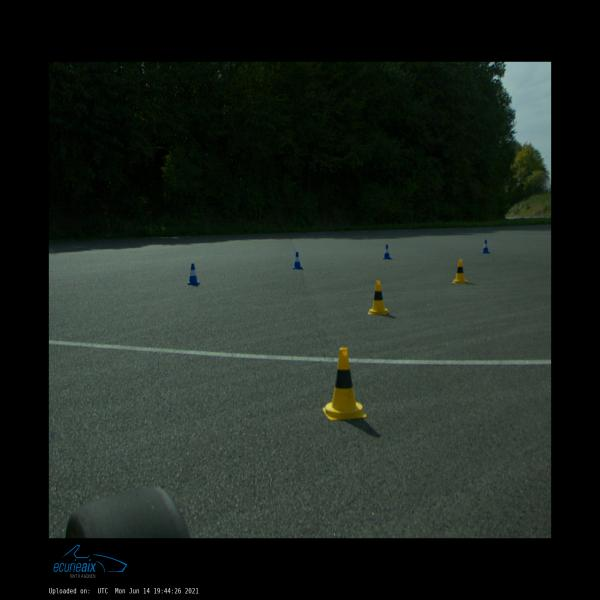blue_cone: (187, 263, 200, 285), (292, 252, 302, 269), (383, 244, 392, 260), (482, 240, 490, 253)
yellow_cone: (323, 347, 367, 420), (368, 281, 389, 315), (452, 259, 468, 284)
